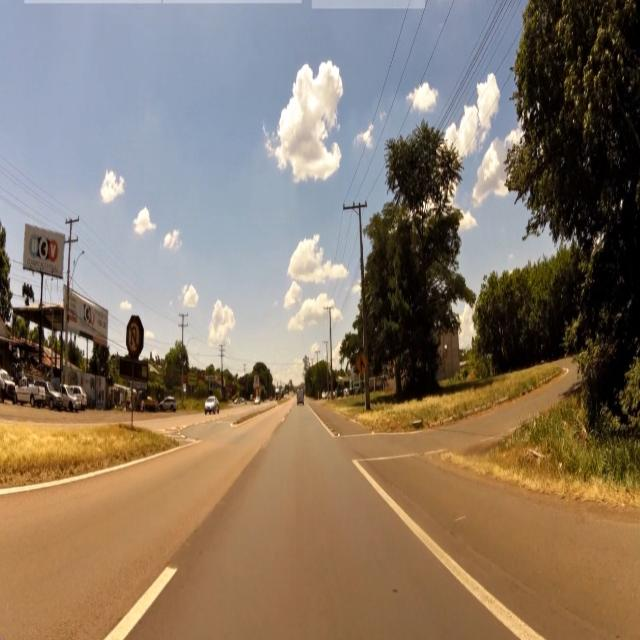R-5a: (128, 321, 140, 356)
